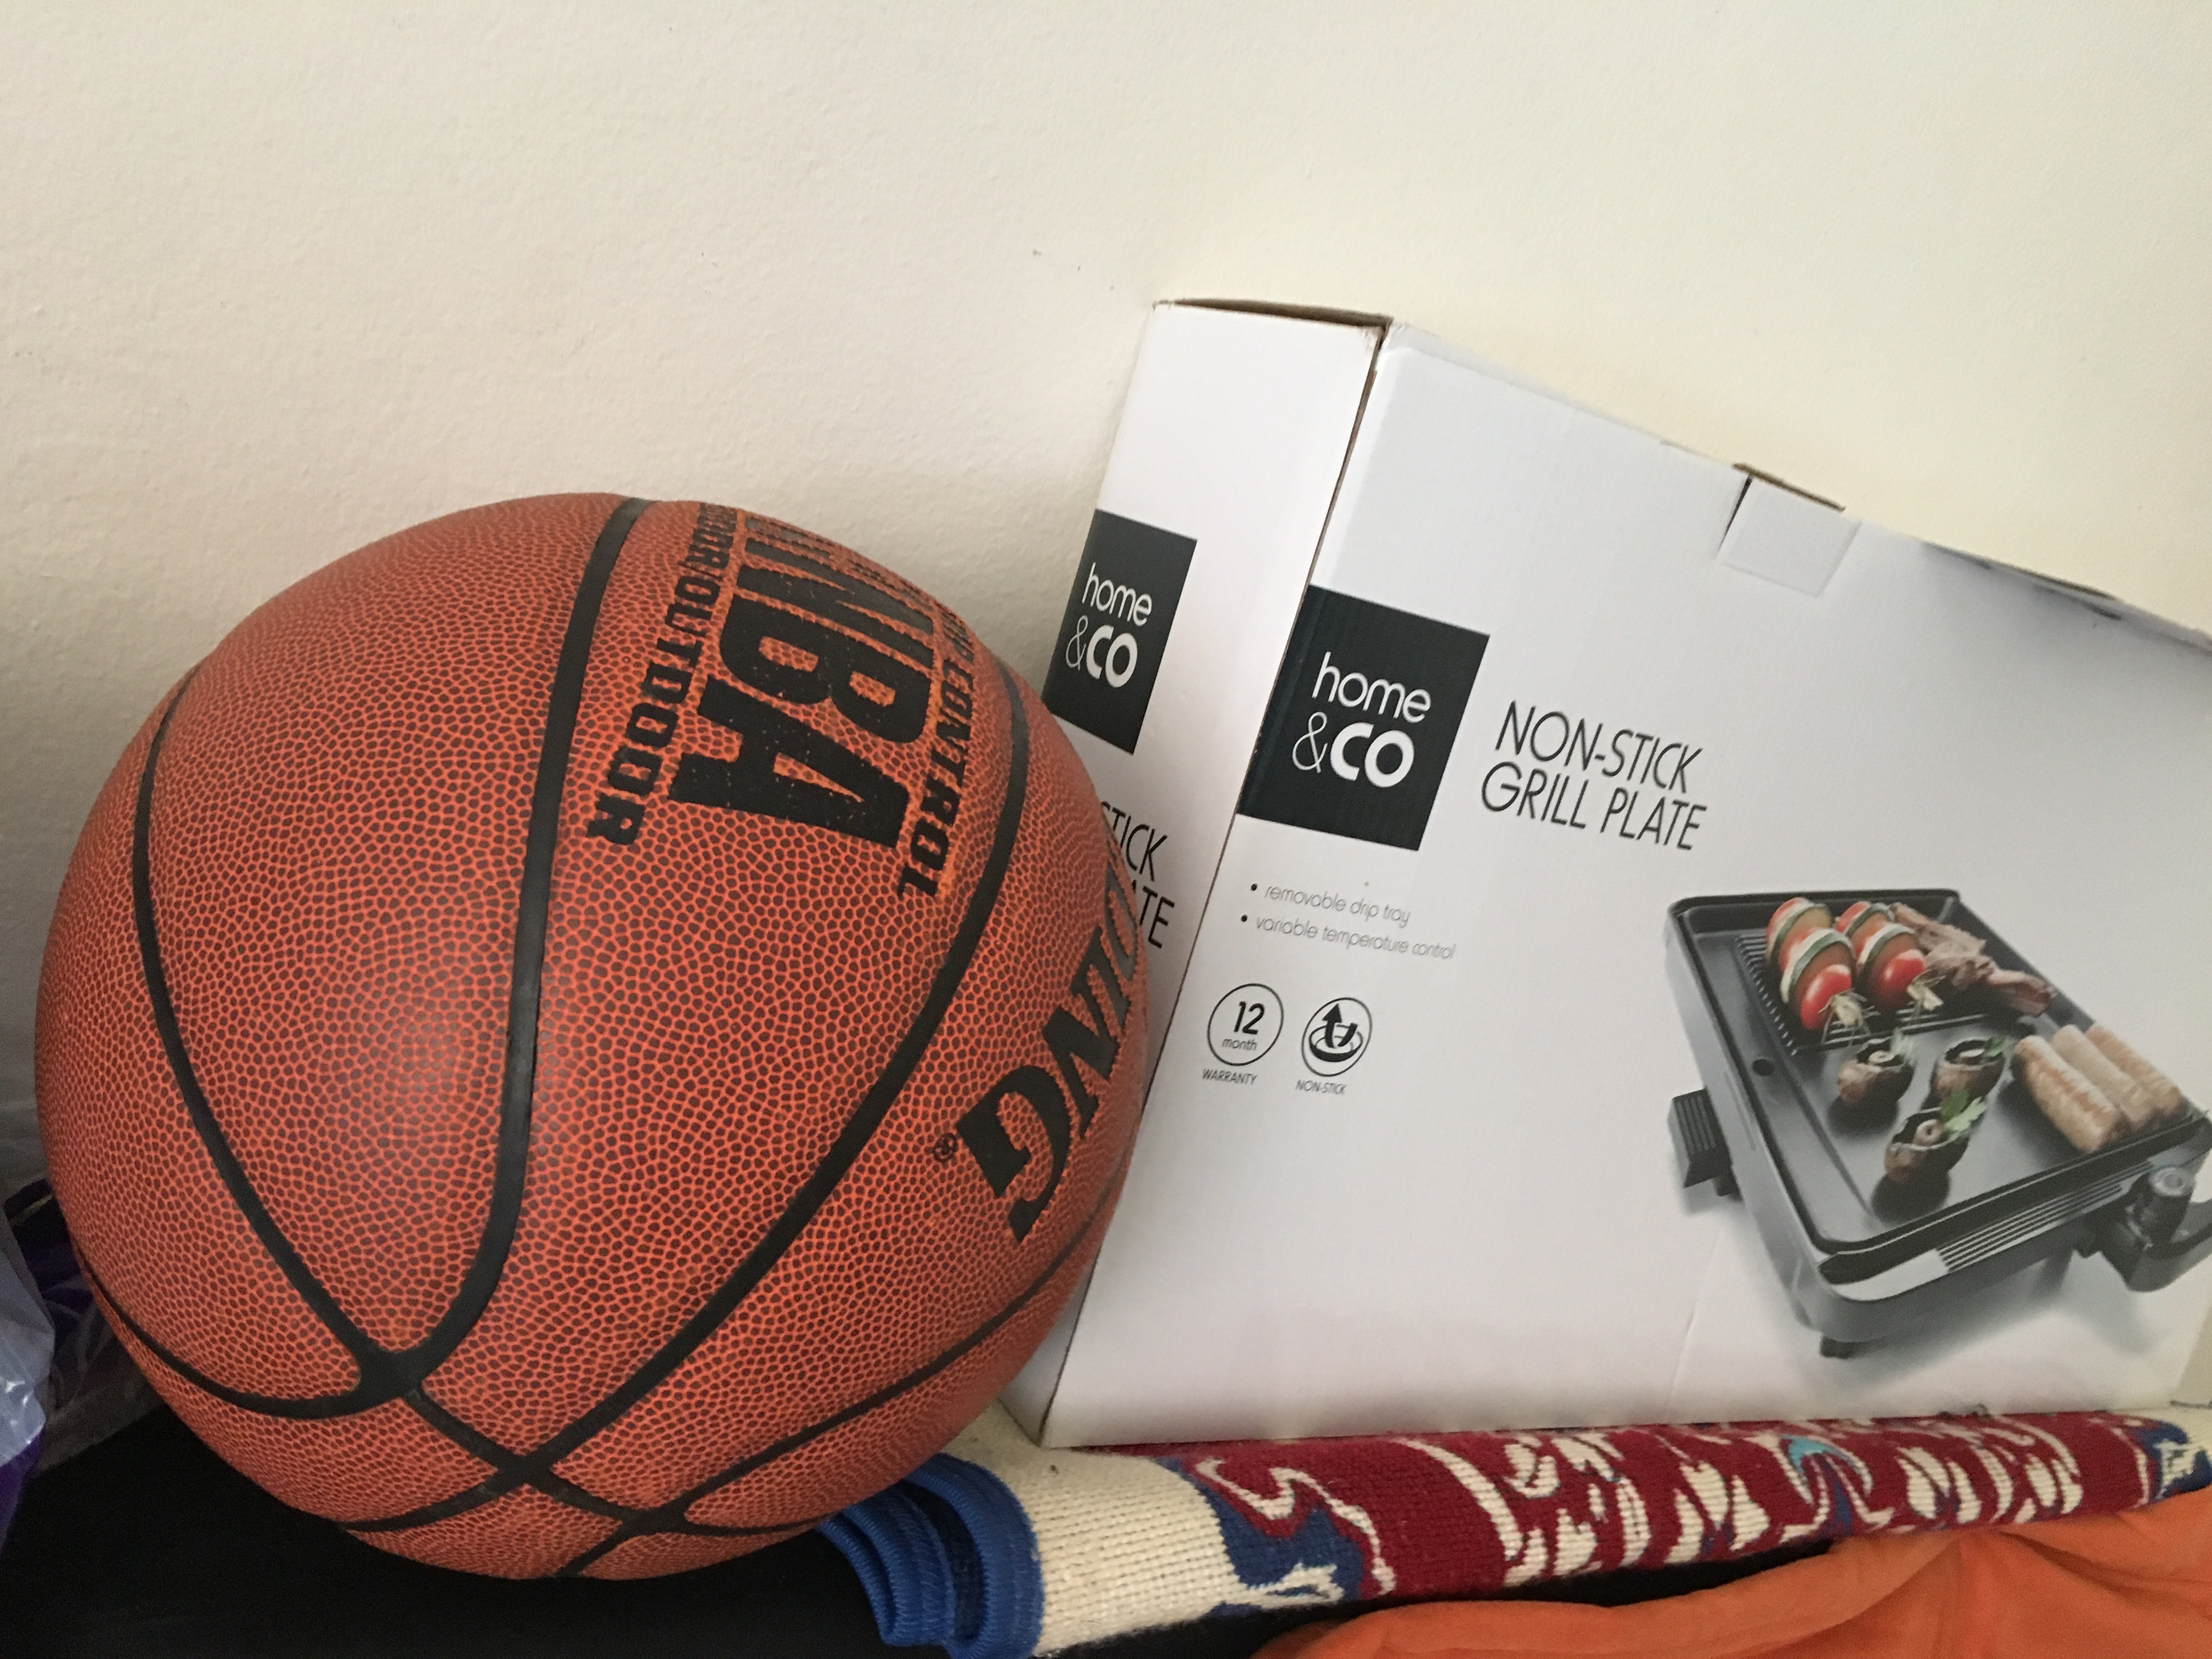Basketball: (12, 464, 1176, 1624)
